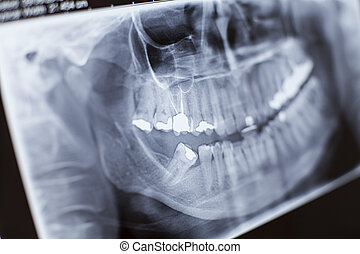molar: (159, 137, 201, 193), (128, 81, 156, 136), (149, 77, 174, 134), (197, 133, 215, 195)
premolar: (209, 133, 225, 193)
